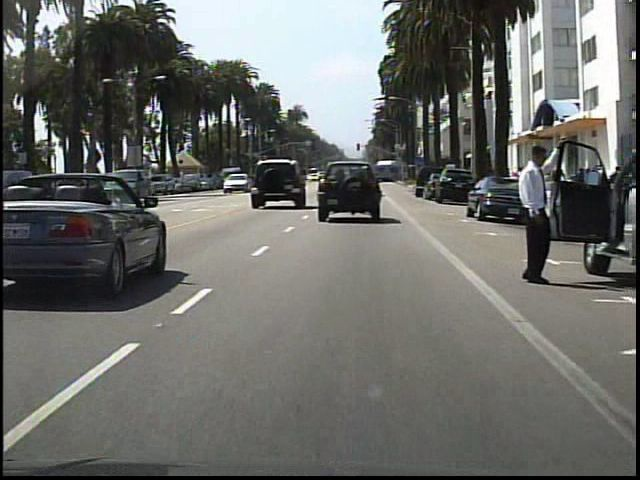person: (505, 132, 568, 293)
